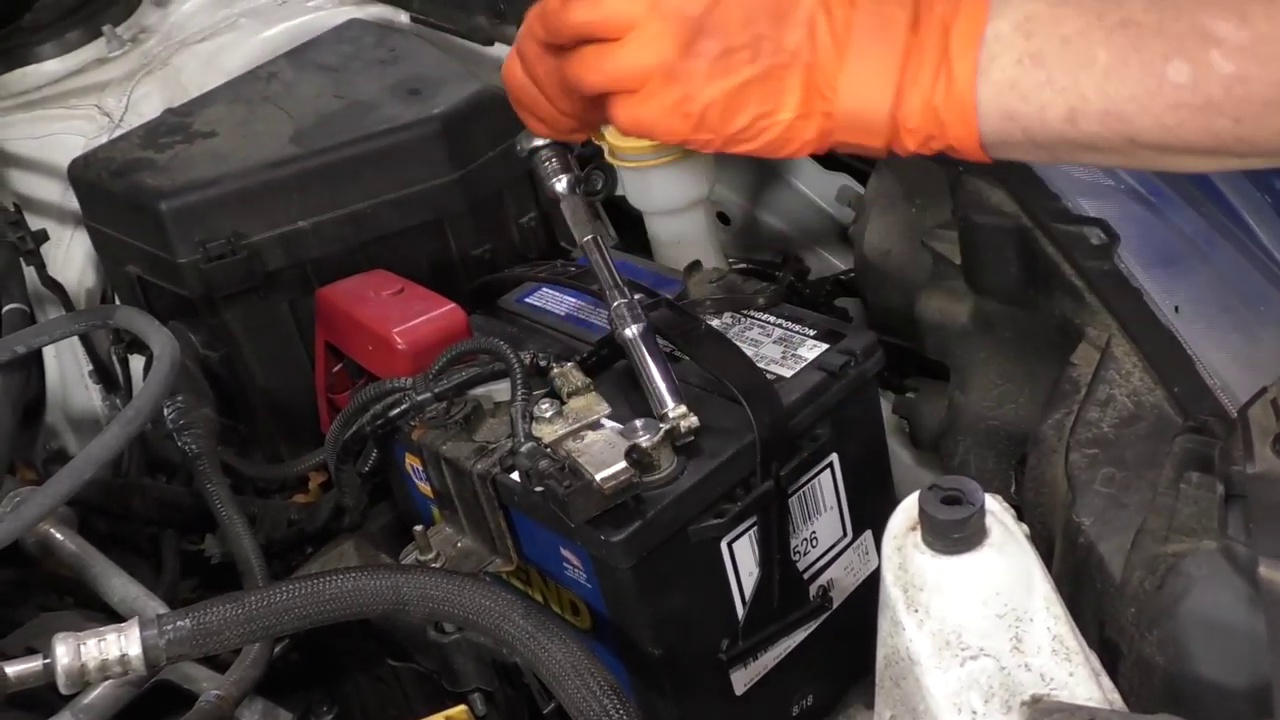battery: (350, 238, 872, 549)
neg_connected: (541, 398, 678, 506)
pos_connected: (281, 254, 477, 420)
